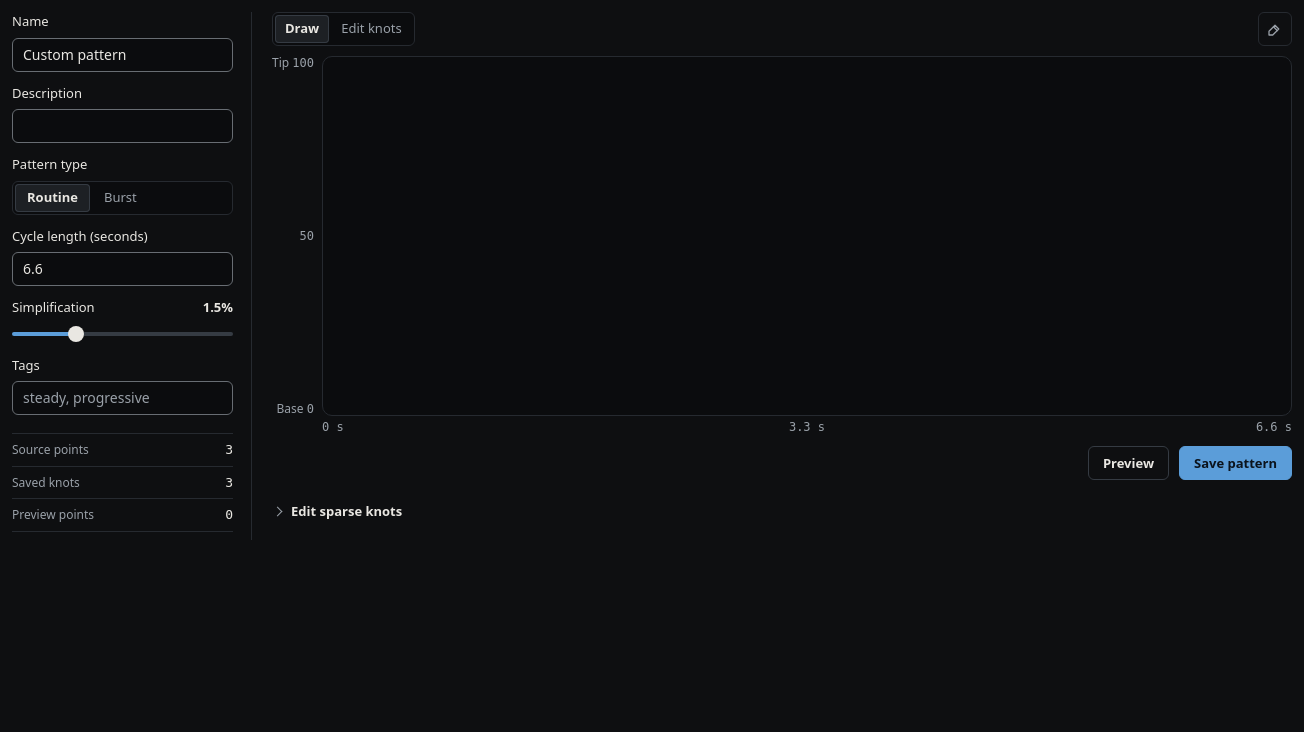
it: PatternAuthoring › ignores an older preview after geometry changes launch a newer request
Click the button "Preview" at coordinates (1128, 463), box [1088,446,1169,480]
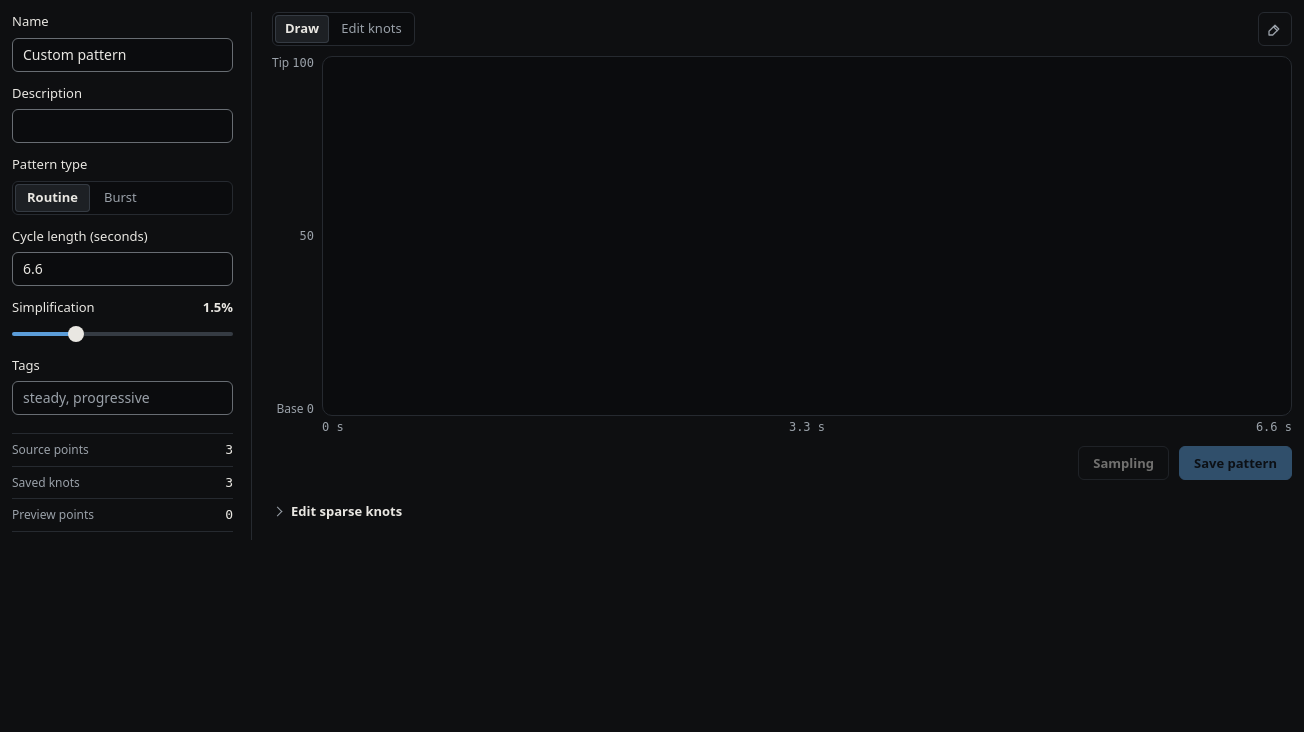
Click the heading "Edit sparse knots" at coordinates (347, 511), box [291,502,402,520]
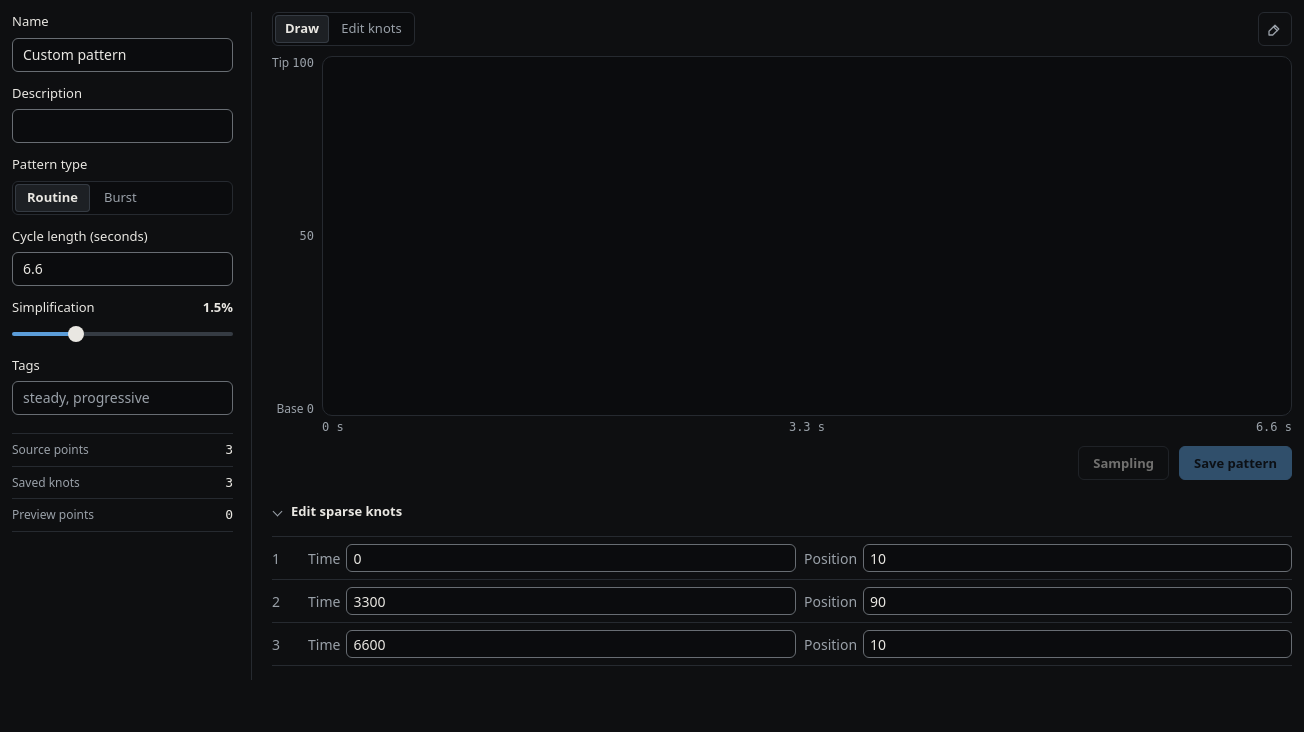
Replace the text in the 1st number field labelled "Time" with "100" at coordinates (571, 558), box [346,544,796,572]
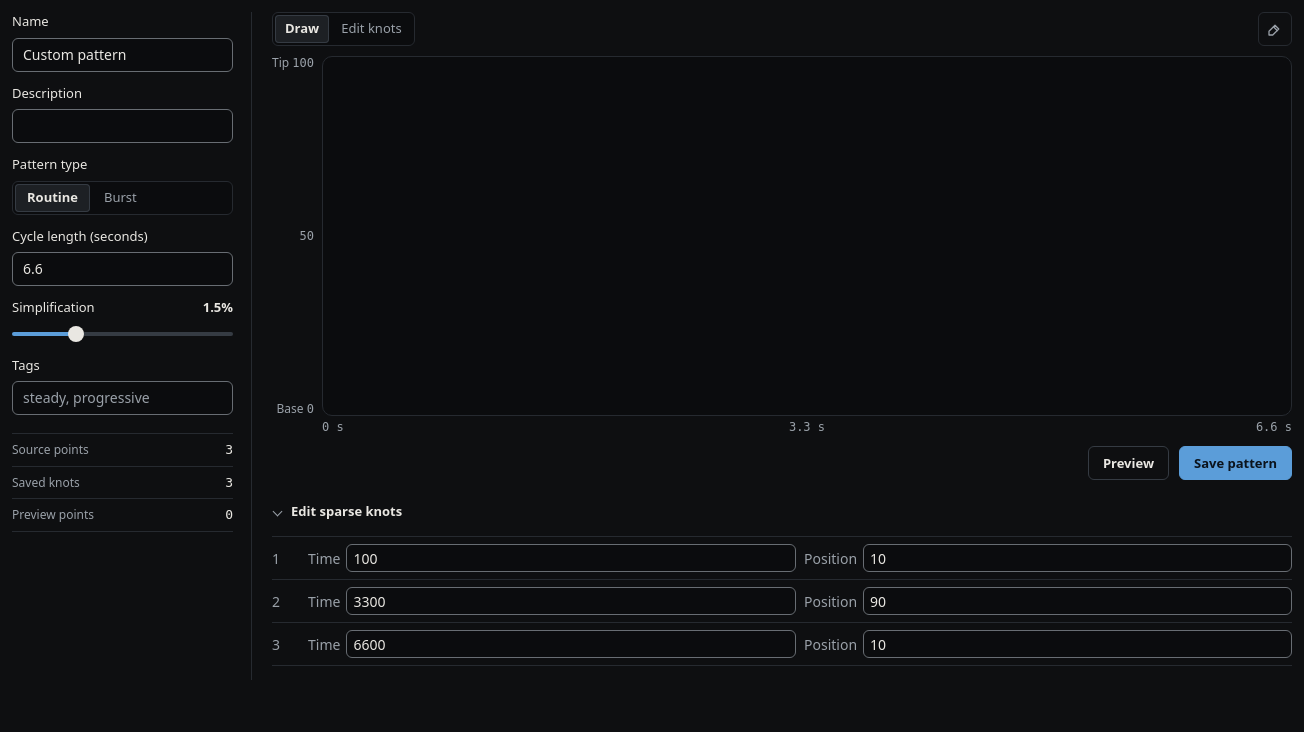
Leave the 1st number field labelled "Time", box [346,544,796,572]
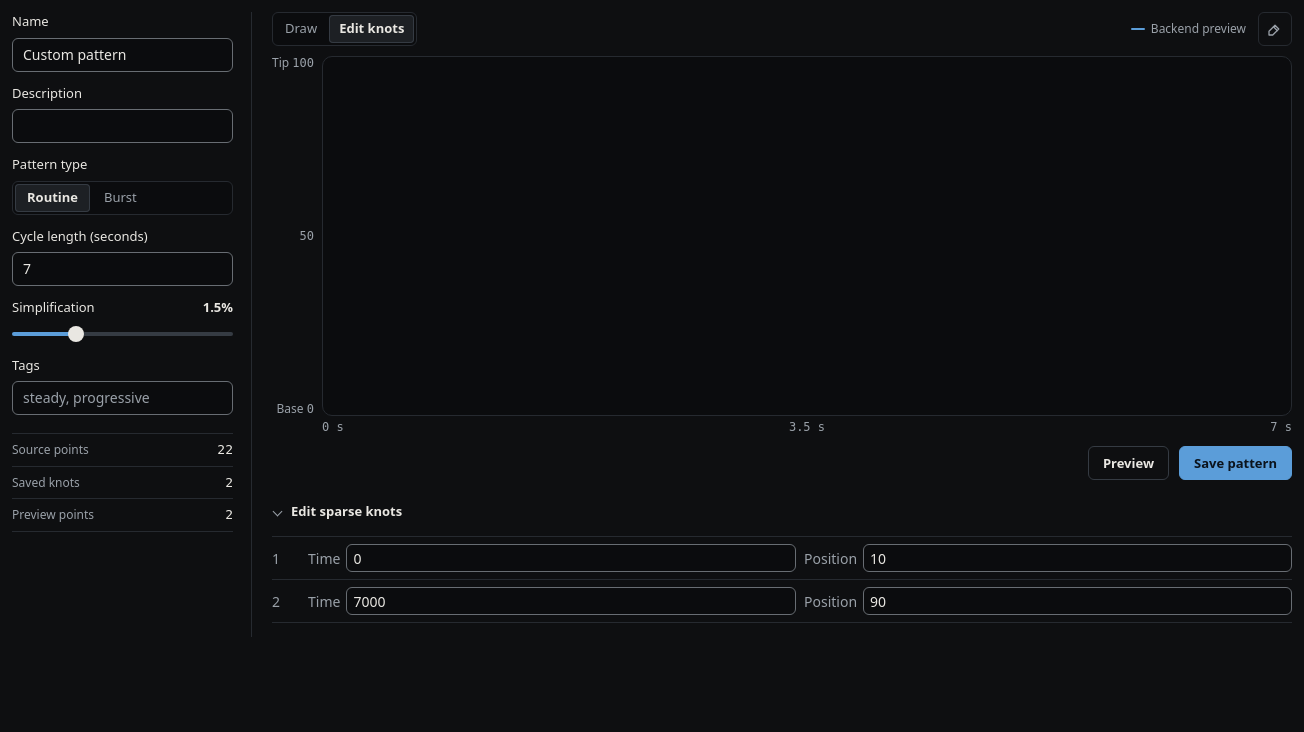
Now the number field labelled "Cycle length (seconds)" holds "7", box [12,252,233,286]
Now the text "22" is shown, box [217,440,233,460]
